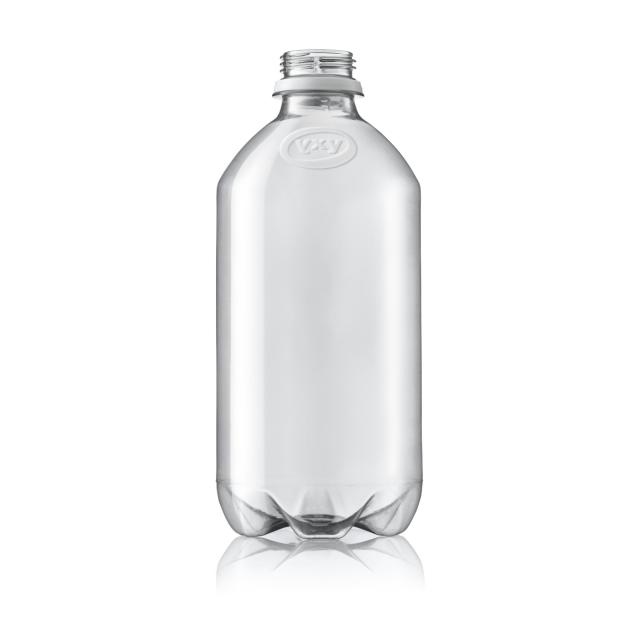plastic_bottle: (217, 48, 431, 540)
